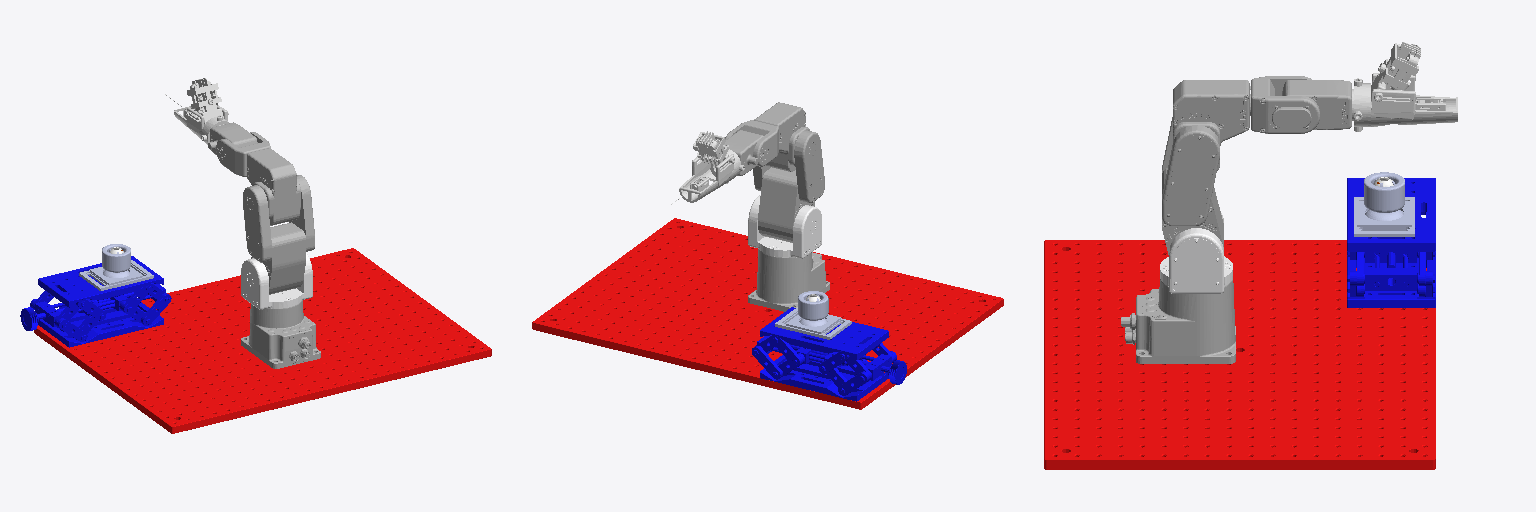
robot.urdf — meca_standalone:
<?xml version="1.0" ?>
<!-- =================================================================================== -->
<!-- |    This document was autogenerated by xacro from Insertion_task.xacro           | -->
<!-- |    EDITING THIS FILE BY HAND IS NOT RECOMMENDED                                 | -->
<!-- =================================================================================== -->
<robot name="meca_standalone">
  <link name="base_link">
    <inertial>
      <origin rpy="0 0 0" xyz="0.0155742096146599 -0.045875694367467 0.0105063591743089"/>
      <mass value="0.701975266012108"/>
      <inertia ixx="0.00104999968536769" ixy="5.67451323688377E-08" ixz="-1.42053140449248E-06" iyy="0.000980207556335173" iyz="9.2922850615505E-05" izz="0.000826340578047908"/>
    </inertial>
    <visual>
      <origin rpy="0 0 0" xyz="0 0 0.0"/>
      <geometry>
        <mesh filename="base_link.STL"/>
      </geometry>
      <material name="">
        <color rgba="0.749019607843137 0.749019607843137 0.749019607843137 1"/>
      </material>
    </visual>
    <collision>
      <origin rpy="0 0 0" xyz="0 0 -0.02"/>
      <geometry>
        <cylinder length="0.04" radius="0.046"/>
      </geometry>
    </collision>
  </link>
  <link name="1_Link">
    <inertial>
      <origin rpy="0 0 0" xyz="0.0265829372353597 8.6108726099841E-07 0.0187309247071563"/>
      <mass value="0.00110681313497636"/>
      <inertia ixx="5.67802800750714E-09" ixy="-6.25280505779623E-13" ixz="2.07136842387982E-13" iyy="2.52736130363855E-08" iyz="3.97946980050579E-15" izz="2.52755748182286E-08"/>
    </inertial>
    <visual>
      <origin rpy="0 0 0" xyz="0 0 0"/>
      <geometry>
        <mesh filename="1_Link.STL"/>
      </geometry>
      <material name="">
        <color rgba="0.996078431372549 0.996078431372549 1 1"/>
      </material>
    </visual>
    <collision>
      <origin rpy="0 0 0" xyz="0 0 0"/>
      <geometry>
        <mesh filename="1_Link.STL"/>
      </geometry>
    </collision>
  </link>
  <joint name="1" type="revolute">
    <origin rpy="0 0 0" xyz="0.015543 0 -0.0046218"/>
    <parent link="base_link"/>
    <child link="1_Link"/>
    <axis xyz="0 0 1"/>
    <limit effort="10.0" lower="-3.0543" upper="3.0543" velocity="2.6180"/>
  </joint>
  <link name="2_Link">
    <inertial>
      <origin rpy="0 0 0" xyz="-0.011581 0.060433 0.025598"/>
      <mass value="0.0014997"/>
      <inertia ixx="4.1007E-08" ixy="2.5363E-14" ixz="-9.3123E-13" iyy="4.1011E-08" iyz="5.6892E-13" izz="4.3707E-09"/>
    </inertial>
    <visual>
      <origin rpy="0 0 0" xyz="0 0 0"/>
      <geometry>
        <mesh filename="2_Link.STL"/>
      </geometry>
      <material name="">
        <color rgba="0.74902 0.74902 0.74902 1"/>
      </material>
    </visual>
    <collision>
      <origin rpy="0 0 0" xyz="0 0 0"/>
      <geometry>
        <mesh filename="2_Link.STL"/>
      </geometry>
    </collision>
  </link>
  <joint name="2" type="revolute">
    <origin rpy="1.5708 0 1.5708" xyz="0 0 0.054"/>
    <parent link="1_Link"/>
    <child link="2_Link"/>
    <axis xyz="0 0 1"/>
    <limit effort="10.0" lower="-1.2217" upper="1.5708" velocity="2.6180"/>
  </joint>
  <link name="3_Link">
    <inertial>
      <origin rpy="0 0 0" xyz="0.00863474322368168 0.0130792726165944 0.000472372386690102"/>
      <mass value="0.369857547820667"/>
      <inertia ixx="0.000364951500986559" ixy="-6.79152264832734E-05" ixz="1.58659979825393E-06" iyy="0.000274459344759578" iyz="5.11361040289315E-06" izz="0.000449724288974004"/>
    </inertial>
    <visual>
      <origin rpy="0 0 0" xyz="0 0 0"/>
      <geometry>
        <mesh filename="3_Link.STL"/>
      </geometry>
      <material name="">
        <color rgba="0.749019607843137 0.749019607843137 0.749019607843137 1"/>
      </material>
    </visual>
    <collision>
      <origin rpy="0 0 0" xyz="0 0 0"/>
      <geometry>
        <mesh filename="3_Link.STL"/>
      </geometry>
    </collision>
  </link>
  <joint name="3" type="revolute">
    <origin rpy="0 0 0" xyz="0 0.135 0"/>
    <parent link="2_Link"/>
    <child link="3_Link"/>
    <axis xyz="0 0 1"/>
    <limit effort="10.0" lower="-2.3562" upper="1.2217" velocity="3.1416"/>
  </joint>
  <link name="4_Link">
    <inertial>
      <origin rpy="0 0 0" xyz="0.0268017397762453 3.8050478860796E-06 -0.0386580641288729"/>
      <mass value="5.4551423036358E-05"/>
      <inertia ixx="6.19250472386076E-11" ixy="-6.6627251186149E-15" ixz="3.36952177502071E-14" iyy="4.37621105880679E-10" iyz="5.44000654518049E-15" izz="4.37369303303002E-10"/>
    </inertial>
    <visual>
      <origin rpy="0 0 0" xyz="0 0 0"/>
      <geometry>
        <mesh filename="4_Link.STL"/>
      </geometry>
      <material name="">
        <color rgba="0.749019607843137 0.749019607843137 0.749019607843137 1"/>
      </material>
    </visual>
    <collision>
      <origin rpy="0 0 0" xyz="0 0 0"/>
      <geometry>
        <mesh filename="4_Link.STL"/>
      </geometry>
    </collision>
  </link>
  <joint name="4" type="revolute">
    <origin rpy="0 -1.5707963267949 0" xyz="0.0609985999996513 0.0380000639917407 0"/>
    <parent link="3_Link"/>
    <child link="4_Link"/>
    <axis xyz="0 0 1"/>
    <limit effort="10.0" lower="-2.9671" upper="2.9671" velocity="5.2360"/>
  </joint>
  <link name="5_Link">
    <inertial>
      <origin rpy="0 0 0" xyz="0.0205110139562634 2.54707156949197E-06 0.000506958591903185"/>
      <mass value="0.16436203042711"/>
      <inertia ixx="5.51456893060112E-05" ixy="8.28032699191258E-09" ixz="3.47996286604157E-06" iyy="0.000119500194381483" iyz="3.23812564504135E-09" izz="0.000115800437996737"/>
    </inertial>
    <visual>
      <origin rpy="0 0 0" xyz="0 0 0"/>
      <geometry>
        <mesh filename="5_Link.STL"/>
      </geometry>
      <material name="">
        <color rgba="0.749019607843137 0.749019607843137 0.749019607843137 1"/>
      </material>
    </visual>
    <collision>
      <origin rpy="0 0 0" xyz="0 0 0"/>
      <geometry>
        <mesh filename="5_Link.STL"/>
      </geometry>
    </collision>
  </link>
  <joint name="5" type="revolute">
    <origin rpy="0 1.5707963267949 0" xyz="0 0 -0.059"/>
    <parent link="4_Link"/>
    <child link="5_Link"/>
    <axis xyz="0 0 1"/>
    <limit effort="10.0" lower="-2.0071" upper="2.0071" velocity="5.2360"/>
  </joint>
  <link name="6_Link">
    <inertial>
      <origin rpy="0 0 0" xyz="-4.93381640404023E-09 -3.06476243447373E-06 -0.0051537334161223"/>
      <mass value="0.00318159115629491"/>
      <inertia ixx="1.12761623790943E-07" ixy="1.20821854288624E-13" ixz="-7.10637835162442E-14" iyy="1.10034690670702E-07" iyz="-4.50963801973578E-11" izz="1.63299994669183E-07"/>
    </inertial>
    <visual>
      <origin rpy="0 0 0" xyz="0 0 0"/>
      <geometry>
        <mesh filename="6_Link.STL"/>
      </geometry>
      <material name="">
        <color rgba="0.749019607843137 0.749019607843137 0.749019607843137 1"/>
      </material>
    </visual>
    <collision>
      <origin rpy="0 0 0" xyz="0 0 0"/>
      <geometry>
        <mesh filename="6_Link.STL"/>
      </geometry>
    </collision>
  </link>
  <joint name="6" type="revolute">
    <origin rpy="0.0 -1.5707963267949 0" xyz="0.059 0 0"/>
    <parent link="5_Link"/>
    <child link="6_Link"/>
    <axis xyz="0 0 1"/>
    <limit effort="10.0" lower="-6.2832" upper="6.2832" velocity="8.7266"/>
  </joint>
  <link name="world"/>
  <link name="Optical_breadboard4560">
    <visual>
      <origin rpy="1.5708 0 0" xyz="0 0 0"/>
      <geometry>
        <mesh filename="Optical_breadboard4560.STL" scale="0.001 0.001 0.001"/>
      </geometry>
      <material name="black">
        <color rgba="1 0.1 0.1 1"/>
      </material>
    </visual>
    <collision>
      <origin rpy="1.5708 0 0" xyz="0 0 0"/>
      <geometry>
        <mesh filename="Optical_breadboard4560.STL" scale="0.001 0.001 0.001"/>
      </geometry>
    </collision>
    <inertial>
      <mass value="0.2"/>
      <inertia ixx="0.001" ixy="0" ixz="0" iyy="0.001" iyz="0" izz="0.001"/>
    </inertial>
  </link>
  <joint name="Optical_breadboard4560" type="fixed">
    <parent link="world"/>
    <child link="Optical_breadboard4560"/>
    <origin rpy="0 0.0 0" xyz="-0.575 0.275 -0.1"/>
  </joint>
  <link name="Optical_tabel90120">
    <visual>
      <origin rpy="1.5708 0 0" xyz="0 0 0"/>
      <geometry>
        <mesh filename="Optical_tabel90120.STL" scale="0.001 0.001 0.001"/>
      </geometry>
      <material name="black">
        <color rgba="0.1 1 0.1 1"/>
      </material>
    </visual>
    <collision>
      <origin rpy="1.5708 0 0" xyz="0 0 0"/>
      <geometry>
        <mesh filename="Optical_tabel90120.STL" scale="0.001 0.001 0.001"/>
      </geometry>
    </collision>
    <inertial>
      <mass value="0.2"/>
      <inertia ixx="0.001" ixy="0" ixz="0" iyy="0.001" iyz="0" izz="0.001"/>
    </inertial>
  </link>
  <joint name="Optical_tabel90120" type="fixed">
    <parent link="Optical_breadboard4560"/>
    <child link="Optical_tabel90120"/>
    <origin rpy="0 0.0 0" xyz="-0.1 0.3 -0.13"/>
  </joint>
  <link name="Optical_plate">
    <visual>
      <origin rpy="1.5708 0 0" xyz="0 0 0"/>
      <geometry>
        <mesh filename="Optical_plate.STL" scale="0.001 0.001 0.001"/>
      </geometry>
      <material name="black">
        <color rgba="0.1 0.1 1 1"/>
      </material>
    </visual>
    <collision>
      <origin rpy="1.5708 0 0" xyz="0 0 0"/>
      <geometry>
        <mesh filename="Optical_plate.STL" scale="0.001 0.001 0.001"/>
      </geometry>
    </collision>
    <inertial>
      <mass value="0.2"/>
      <inertia ixx="0.001" ixy="0" ixz="0" iyy="0.001" iyz="0" izz="0.001"/>
    </inertial>
  </link>
  <joint name="Optical_plate" type="fixed">
    <parent link="Optical_breadboard4560"/>
    <child link="Optical_plate"/>
    <origin rpy="0 0.0 0" xyz="0.25 0 0.012"/>
  </joint>
  <link name="Trocar_plate">
    <inertial>
      <origin rpy="0 0 0" xyz="-0.010284 0.0012129 -0.024908"/>
      <mass value="0.030295"/>
      <inertia ixx="1.5333E-05" ixy="-4.7674E-22" ixz="-4.3837E-22" iyy="2.53E-05" iyz="-1.0486E-19" izz="4.0328E-05"/>
    </inertial>
    <visual>
      <origin rpy="0 0 0" xyz="0 0 0"/>
      <geometry>
        <mesh filename="Trocar_plate.STL"/>
      </geometry>
      <material name="">
        <color rgba="0.79216 0.81961 0.93333 1"/>
      </material>
    </visual>
    <collision>
      <origin rpy="0 0 0" xyz="0 0 0"/>
      <geometry>
        <mesh filename="Trocar_plate.STL"/>
      </geometry>
    </collision>
  </link>
  <joint name="Trocar_plate" type="fixed">
    <parent link="Optical_plate"/>
    <child link="Trocar_plate"/>
    <origin rpy="-1.5708 0.0 0.0" xyz="0.175 -0.06 0.1115"/>
  </joint>
  <link name="Trocar_cover">
    <inertial>
      <origin rpy="0 0 0" xyz="0 2.1684E-19 0.0031894"/>
      <mass value="0.051623"/>
      <inertia ixx="1.8441E-05" ixy="-6.6852E-38" ixz="-1.2085E-22" iyy="1.8441E-05" iyz="-1.0609E-38" izz="1.698E-05"/>
    </inertial>
    <visual>
      <origin rpy="0 0 0" xyz="0 0 0"/>
      <geometry>
        <mesh filename="Trocar_cover.STL"/>
      </geometry>
      <material name="">
        <color rgba="0.79216 0.81961 0.93333 1"/>
      </material>
    </visual>
    <collision>
      <origin rpy="0 0 0" xyz="0 0 0"/>
      <geometry>
        <mesh filename="Trocar_cover.STL"/>
      </geometry>
    </collision>
  </link>
  <joint name="Cover" type="revolute">
    <origin rpy="1.5708 0 0" xyz="-0.010284 0.006 0.0012129"/>
    <parent link="Trocar_plate"/>
    <child link="Trocar_cover"/>
    <axis xyz="0 0 1"/>
    <limit effort="0" lower="0" upper="0" velocity="0"/>
  </joint>
  <link name="Trocar_gripper">
    <inertial>
      <origin rpy="0 0 0" xyz="6.15921593302357E-08 0.00866204485646013 -8.45455101743803E-08"/>
      <mass value="0.000465099979144033"/>
      <inertia ixx="4.62973137158684E-08" ixy="-3.59081407708454E-13" ixz="-2.4218954980201E-18" iyy="4.54118427502853E-08" iyz="4.83325739784747E-13" izz="4.62973137174286E-08"/>
    </inertial>
    <visual>
      <origin rpy="0 0 0" xyz="0 0 0"/>
      <geometry>
        <mesh filename="Trocar_gripper.STL"/>
      </geometry>
      <material name="">
        <color rgba="0.792156862745098 0.819607843137255 0.933333333333333 1"/>
      </material>
    </visual>
    <collision>
      <origin rpy="0 0 0" xyz="0 0 0"/>
      <geometry>
        <mesh filename="Trocar_gripper.STL"/>
      </geometry>
    </collision>
  </link>
  <joint name="gripper" type="revolute">
    <origin rpy="1.5708 0 1.2559" xyz="0 0 0.005"/>
    <parent link="Trocar_cover"/>
    <child link="Trocar_gripper"/>
    <axis xyz="0 1 0"/>
    <limit effort="0" lower="0" upper="0" velocity="0"/>
  </joint>
  <link name="Eye_phantom">
    <inertial>
      <origin rpy="0 0 0" xyz="-0.012472312239797 -1.50679048680994E-05 -2.58139816005937E-05"/>
      <mass value="0.00166355152381348"/>
      <inertia ixx="1.67706142981398E-07" ixy="2.68078790732605E-10" ixz="-3.60065214288737E-10" iyy="1.50535164162634E-07" iyz="-2.37123987209198E-12" izz="1.51037126333486E-07"/>
    </inertial>
    <visual>
      <origin rpy="0 0 0" xyz="0 0 0"/>
      <geometry>
        <mesh filename="Eye_phantom.STL"/>
      </geometry>
      <material name="">
        <color rgba="1 1 1 1"/>
      </material>
    </visual>
    <collision>
      <origin rpy="0 0 0" xyz="0 0 0"/>
      <geometry>
        <mesh filename="Eye_phantom.STL"/>
      </geometry>
    </collision>
  </link>
  <joint name="Eye_phantom" type="revolute">
    <origin rpy="0.5 0.0 -1.5708" xyz="0 0 0"/>
    <parent link="Trocar_gripper"/>
    <child link="Eye_phantom"/>
    <axis xyz="1 0 0"/>
    <limit effort="0" lower="0" upper="0" velocity="0"/>
  </joint>
  <link name="Eye_trocar">
    <inertial>
      <origin rpy="0 0 0" xyz="0 3.03576608295941E-18 0.00446798310326308"/>
      <mass value="7.447930783498E-06"/>
      <inertia ixx="7.4544848639307E-12" ixy="-1.0097419586829E-28" ixz="-6.86624531904369E-27" iyy="7.4544848639307E-12" iyz="2.72630328844382E-27" izz="5.94805100211937E-12"/>
    </inertial>
    <visual>
      <origin rpy="0 0 0" xyz="0 0 0"/>
      <geometry>
        <mesh filename="Eye_trocar.STL"/>
      </geometry>
      <material name="">
        <color rgba="0.717647058823529 0.254901960784314 0 1"/>
      </material>
    </visual>
    <collision>
      <origin rpy="0 0 0" xyz="0 0 0"/>
      <geometry>
        <mesh filename="Eye_trocar.STL"/>
      </geometry>
    </collision>
  </link>
  <joint name="Eye_trocar" type="revolute">
    <origin rpy="0.2922 -0.64361 -0.45715" xyz="-0.018742 -3.9168E-05 0.0062012"/>
    <parent link="Eye_phantom"/>
    <child link="Eye_trocar"/>
    <axis xyz="0 0 1"/>
    <limit effort="0" lower="0" upper="0" velocity="0"/>
  </joint>
  <link name="260107_Total_assembly">
    <visual>
      <origin rpy="1.5708 0 0" xyz="0 0 0"/>
      <geometry>
        <mesh filename="260107_Total_assembly_simplified.STL" scale="0.001 0.001 0.001"/>
      </geometry>
      <material name="black">
        <color rgba="0.9 0.9 0.9 1"/>
      </material>
    </visual>
    <collision>
      <origin rpy="1.5708 0 0" xyz="0 0 0"/>
      <geometry>
        <mesh filename="260107_Total_assembly_simplified.STL" scale="0.001 0.001 0.001"/>
      </geometry>
    </collision>
    <inertial>
      <mass value="0.2"/>
      <inertia ixx="0.001" ixy="0" ixz="0" iyy="0.001" iyz="0" izz="0.001"/>
    </inertial>
  </link>
  <joint name="260107_Total_assembly" type="fixed">
    <parent link="6_Link"/>
    <child link="260107_Total_assembly"/>
    <origin rpy="1.5708 0.0 3.1416" xyz="0.105 -0.0325 0.0"/>
  </joint>
  <joint name="world_to_base" type="fixed">
    <parent link="world"/>
    <child link="base_link"/>
    <origin rpy="0 0 0" xyz="0 0 0"/>
  </joint>
</robot>

--- Render facts (derived) ---
The picture shows the robot from 3 angles, left to right: view 1: azimuth 30°, elevation 25°; view 2: azimuth 150°, elevation 25°; view 3: azimuth 270°, elevation 25°; orthographic projection.
Model meca_standalone with 17 links and 16 joints (10 revolute, 6 fixed), rooted at world, posed every joint at zero.
Visible links, largest first — view 1: Optical_breadboard4560, Optical_plate, 2_Link, base_link, 3_Link, 1_Link, 260107_Total_assembly, 4_Link, Trocar_plate, 5_Link, Trocar_cover; view 2: Optical_breadboard4560, Optical_plate, 2_Link, base_link, 260107_Total_assembly, 1_Link, 3_Link, 4_Link, Trocar_plate, Trocar_cover, 5_Link; view 3: Optical_breadboard4560, Optical_plate, base_link, 2_Link, 260107_Total_assembly, 3_Link, 1_Link, 4_Link, 5_Link, Trocar_cover, Trocar_plate.
Link boxes in pixels (x1,y1,x2,y2): Optical_breadboard4560: (34, 248, 491, 433); Optical_plate: (20, 256, 171, 347); 2_Link: (243, 175, 314, 294); base_link: (241, 301, 320, 368); 3_Link: (247, 148, 300, 225); 1_Link: (241, 253, 312, 309); 260107_Total_assembly: (165, 78, 228, 144); 4_Link: (216, 132, 270, 176); Trocar_plate: (79, 260, 153, 290); 5_Link: (208, 122, 257, 154); Trocar_cover: (102, 244, 130, 277); Optical_breadboard4560: (532, 218, 1003, 409); Optical_plate: (752, 307, 906, 401); 2_Link: (753, 130, 824, 242); base_link: (748, 249, 829, 311); 260107_Total_assembly: (671, 131, 744, 204); 1_Link: (748, 195, 821, 258); 3_Link: (754, 102, 809, 171); 4_Link: (725, 120, 778, 166); Trocar_plate: (775, 308, 851, 339); Trocar_cover: (798, 291, 828, 326); 5_Link: (724, 130, 763, 175); Optical_breadboard4560: (1044, 240, 1435, 469); Optical_plate: (1347, 178, 1435, 307); base_link: (1121, 279, 1235, 363); 2_Link: (1162, 117, 1223, 254); 260107_Total_assembly: (1352, 42, 1457, 131); 3_Link: (1173, 80, 1249, 170); 1_Link: (1160, 213, 1232, 293); 4_Link: (1250, 76, 1319, 133); 5_Link: (1282, 80, 1351, 129); Trocar_cover: (1364, 172, 1404, 220); Trocar_plate: (1354, 197, 1414, 236).
Size in the robot's own frame: 0.6431 by 0.542 by 0.3998 metres.
Meshes: 16 distinct files referenced, 15 mesh visuals loaded (15 binary STL); not drawn: 1 (reference not matched to a file when rendering).